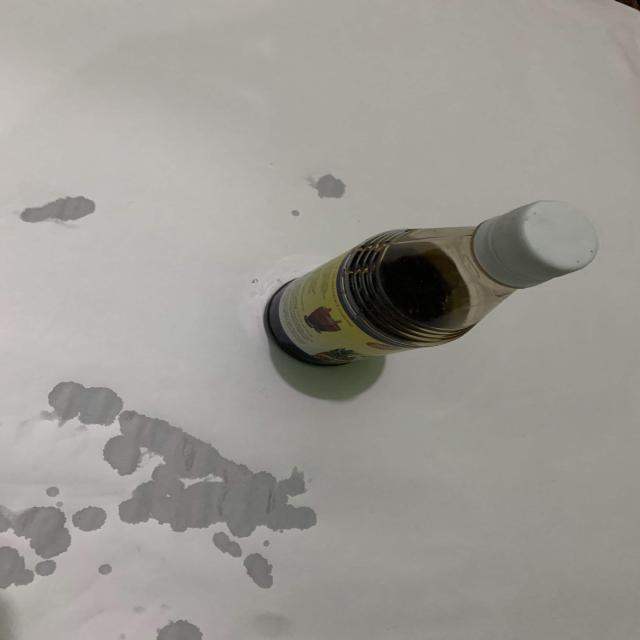bottle: (250, 195, 607, 368)
